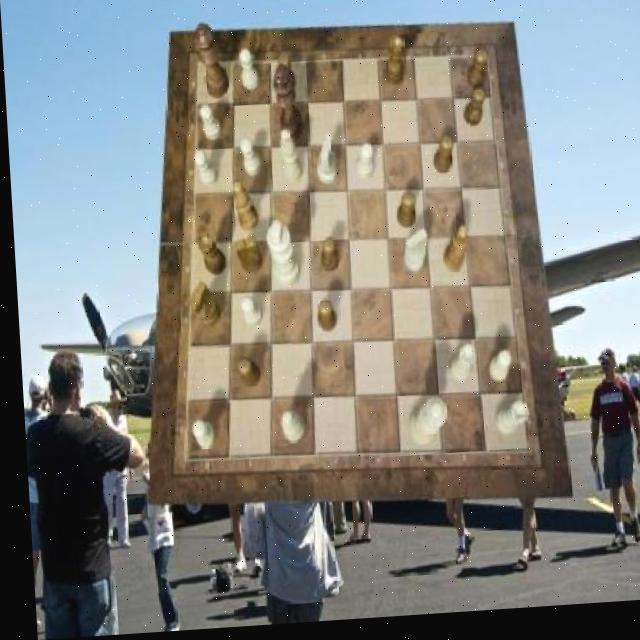bishop: (231, 184, 257, 236), (440, 232, 466, 279)
black-bishop: (272, 66, 304, 146)
black-king: (185, 283, 217, 330), (230, 238, 260, 278)
black-knight: (463, 55, 488, 96), (461, 95, 486, 134), (429, 142, 452, 180), (277, 57, 296, 98), (233, 360, 257, 392), (393, 197, 413, 234), (313, 302, 334, 337), (317, 242, 336, 277)
black-pawn: (192, 24, 228, 102)
black-queen: (195, 234, 224, 278), (381, 40, 406, 91)
black-rook: (277, 132, 301, 187), (275, 413, 301, 448)
white-bishop: (263, 224, 297, 293)
white-king: (313, 136, 336, 188), (400, 234, 426, 279)
white-knight: (192, 152, 217, 191), (238, 142, 260, 181), (238, 52, 258, 94), (198, 107, 220, 144), (484, 356, 508, 389), (188, 421, 212, 451), (236, 298, 258, 330), (353, 149, 372, 184)
white-pawn: (402, 403, 441, 452)
white-queen: (490, 408, 524, 443), (443, 350, 472, 389)
